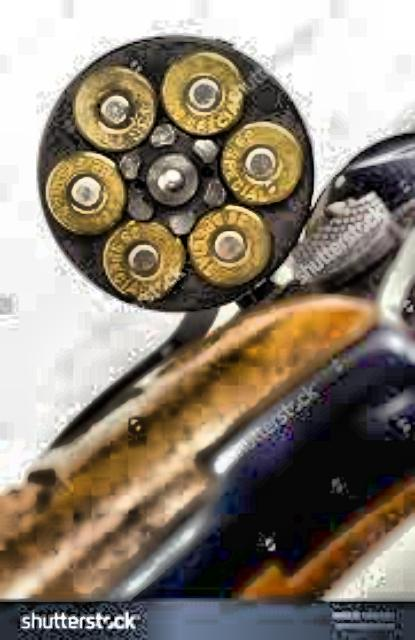pistol: (0, 9, 412, 596)
